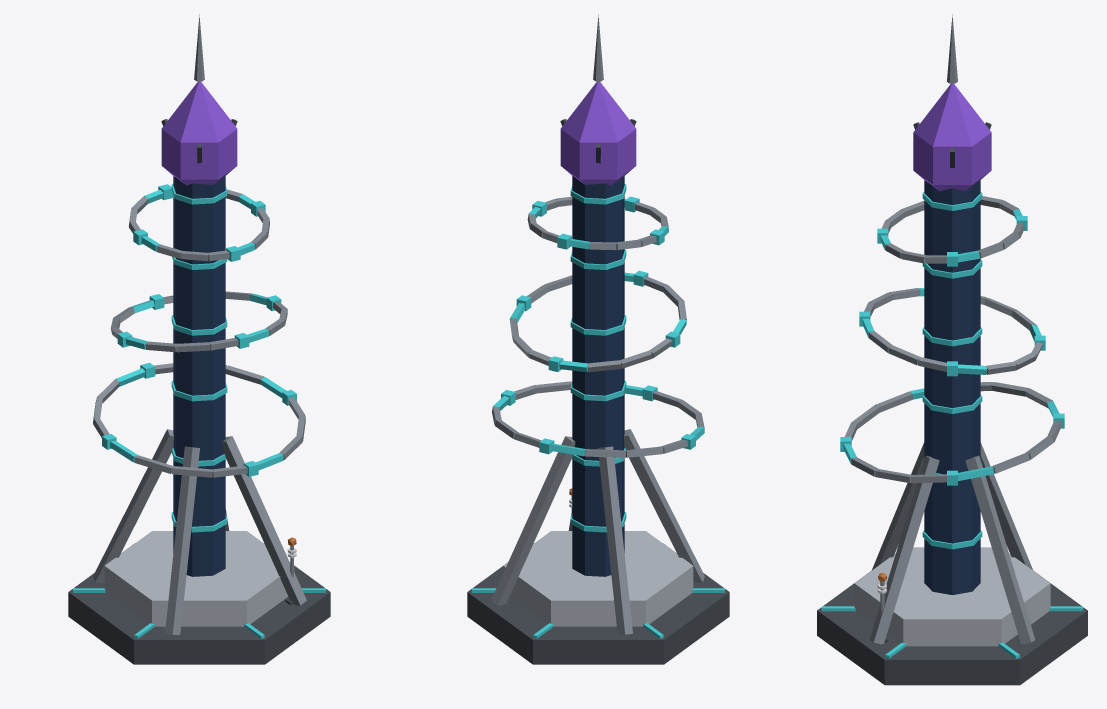
The model's file is antenne_quantique.glb.
3 views of the same model, side by side, from view 1: azimuth 30°, elevation 25°; view 2: azimuth 150°, elevation 25°; view 3: azimuth 270°, elevation 25° (orthographic). The views are drawn at different scales.
Visible parts, largest first — view 1: colonne.002, socle_haut.002, socle.002, pieces_acier.018, anneaux_acier.002, anneaux_cyan.002, voyant_cristal_bas.002, voyant_cristal_haut.002, pieces_cyan.004, contre_acier.002, contre_cyan.002; view 2: colonne.002, socle_haut.002, socle.002, pieces_acier.018, anneaux_acier.002, voyant_cristal_bas.002, voyant_cristal_haut.002, pieces_cyan.004, contre_acier.002, anneaux_cyan.002, contre_cyan.002; view 3: colonne.002, socle.002, socle_haut.002, pieces_acier.018, anneaux_acier.002, voyant_cristal_bas.002, voyant_cristal_haut.002, pieces_cyan.004, contre_acier.002, anneaux_cyan.002, contre_cyan.002, fleche.002.
Part boxes in pixels (box(x1,y1,x2,y2)): colonne.002: box(173, 175, 225, 576); socle_haut.002: box(104, 531, 294, 626); socle.002: box(68, 544, 330, 664); pieces_acier.018: box(93, 429, 306, 635); anneaux_acier.002: box(93, 189, 305, 477); anneaux_cyan.002: box(102, 184, 296, 476); voyant_cristal_bas.002: box(161, 129, 237, 179); voyant_cristal_haut.002: box(161, 81, 237, 142); pieces_cyan.004: box(73, 184, 325, 638); contre_acier.002: box(110, 291, 287, 352); contre_cyan.002: box(117, 294, 281, 349); colonne.002: box(572, 175, 624, 576); socle_haut.002: box(503, 531, 693, 626); socle.002: box(467, 544, 729, 664); pieces_acier.018: box(491, 429, 704, 635); anneaux_acier.002: box(492, 196, 704, 457); voyant_cristal_bas.002: box(560, 129, 636, 179); voyant_cristal_haut.002: box(560, 81, 636, 142); pieces_cyan.004: box(472, 184, 724, 638); contre_acier.002: box(509, 275, 686, 372); anneaux_cyan.002: box(493, 196, 704, 456); contre_cyan.002: box(510, 270, 686, 372); colonne.002: box(924, 180, 980, 594); socle.002: box(817, 571, 1087, 685); socle_haut.002: box(854, 547, 1050, 646); pieces_acier.018: box(869, 442, 1035, 644); anneaux_acier.002: box(844, 196, 1061, 483); voyant_cristal_bas.002: box(913, 133, 991, 184); voyant_cristal_haut.002: box(913, 83, 991, 146); pieces_cyan.004: box(821, 192, 1083, 658); contre_acier.002: box(864, 288, 1042, 374); anneaux_cyan.002: box(840, 209, 1064, 485); contre_cyan.002: box(859, 288, 1045, 376); fleche.002: box(947, 14, 957, 83).
Bounding box in the file's own units: 1.5 × 3.67 × 1.5.
